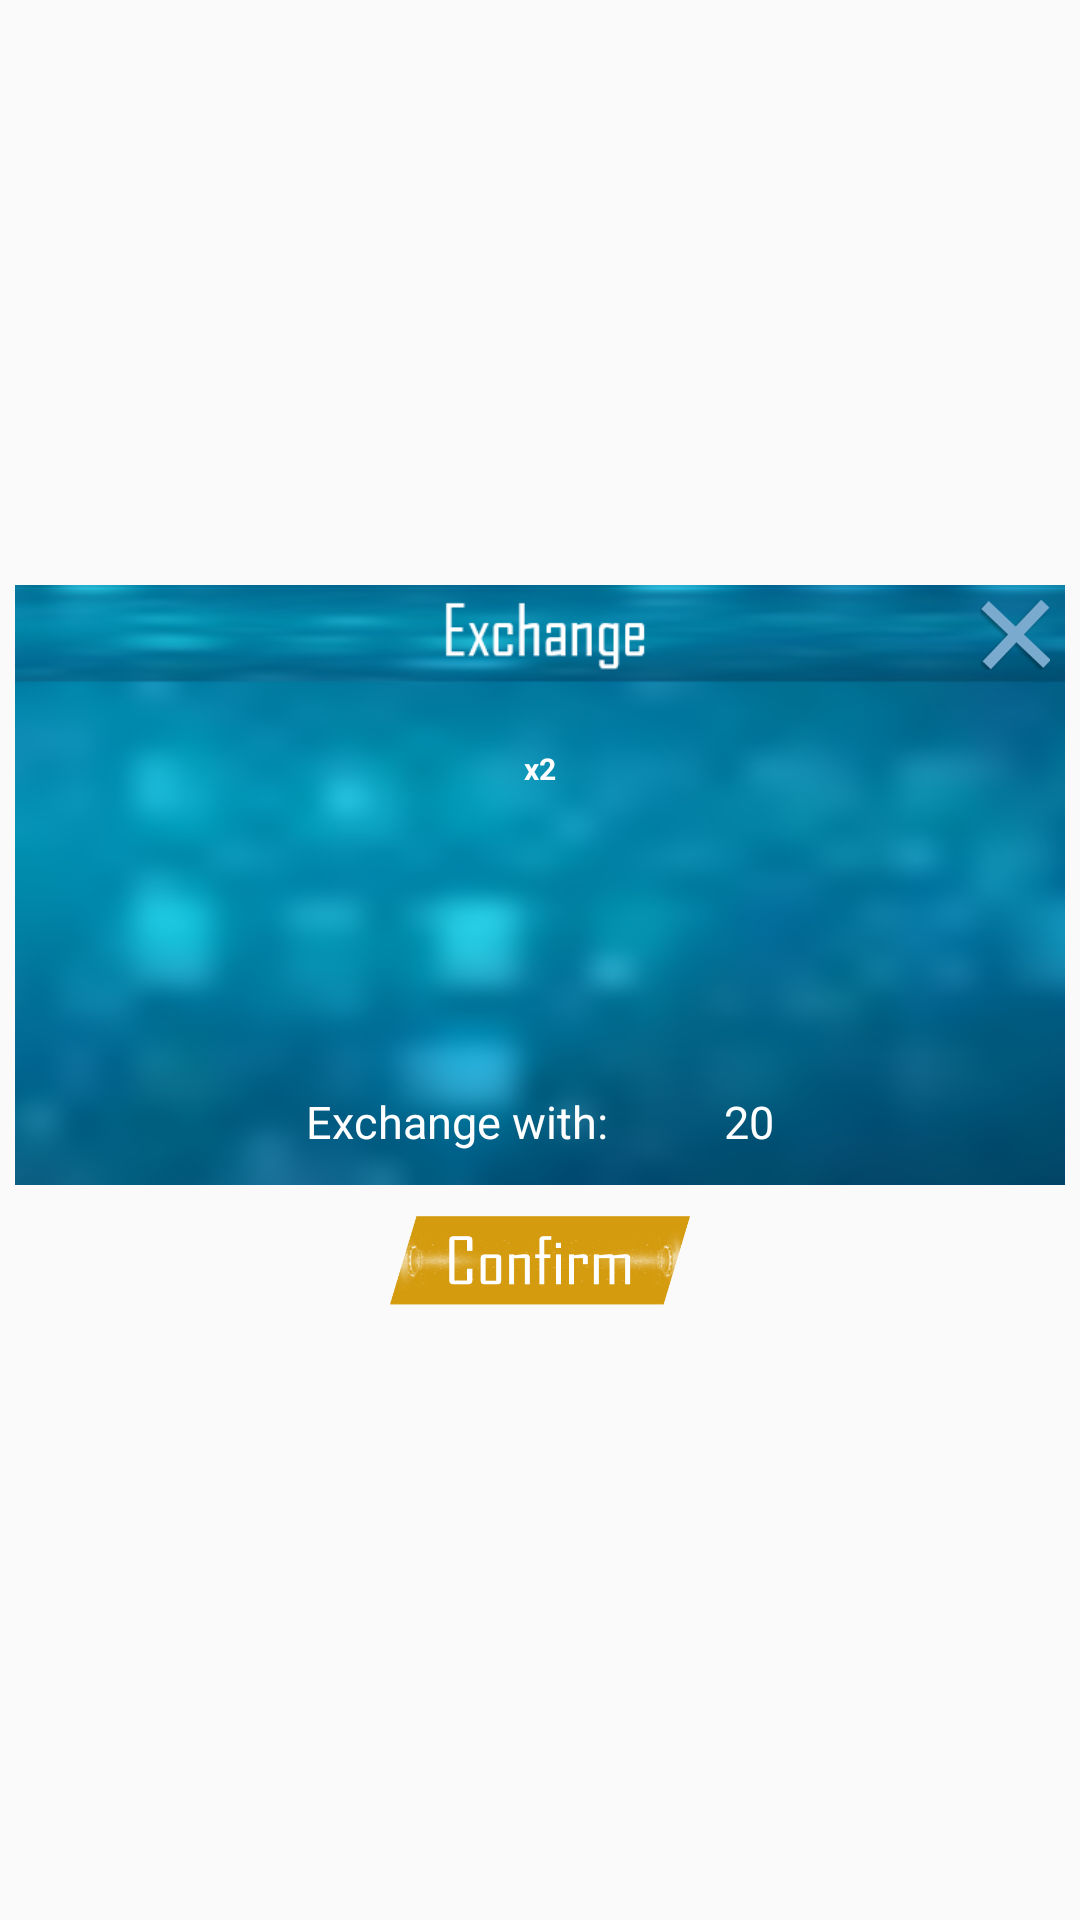

Icons on this 1080×1920 Android screen, each with the point to tap as (x=x, y=y):
xclose: (x=1015, y=635)
